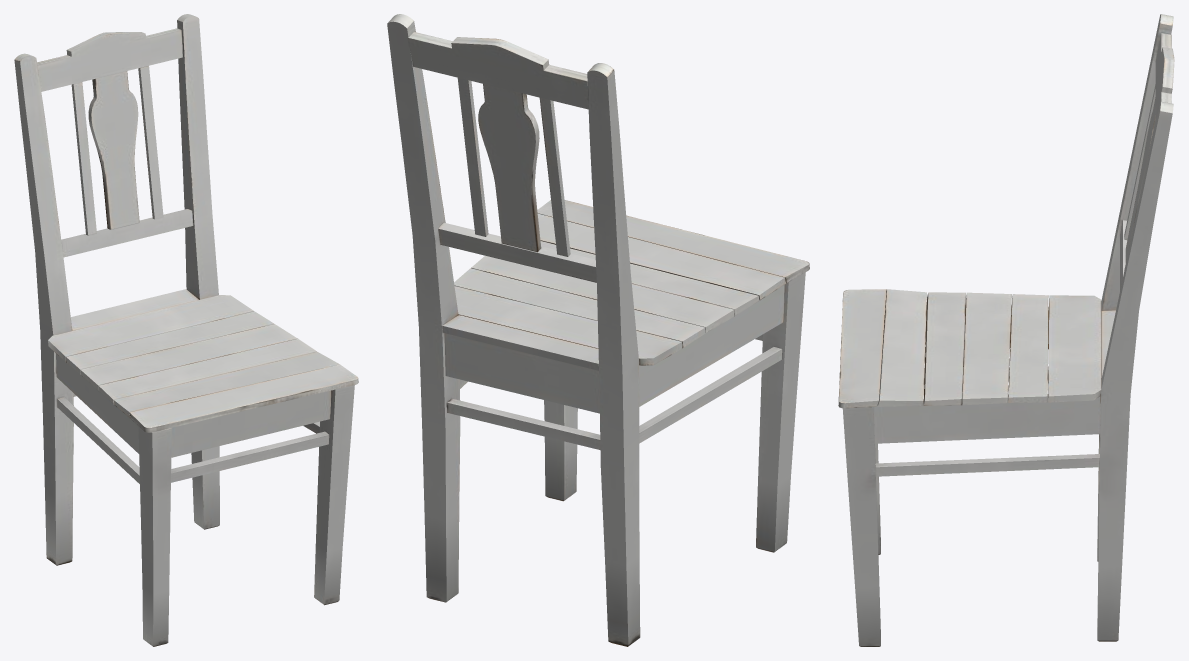
File: chair.glb
3 views of the same model, side by side, from view 1: azimuth 30°, elevation 25°; view 2: azimuth 150°, elevation 25°; view 3: azimuth 270°, elevation 25° (orthographic). The views are drawn at different scales.
Visible parts, largest first — view 1: painted_wooden_chair_01; view 2: painted_wooden_chair_01; view 3: painted_wooden_chair_01.
Part boxes in pixels (x1,y1,x2,y2): painted_wooden_chair_01: [14, 14, 358, 646]; painted_wooden_chair_01: [387, 14, 809, 646]; painted_wooden_chair_01: [838, 14, 1174, 646].
Bounding box in the file's own units: 0.4317 × 0.9565 × 0.5398.
1 material, 1 textured.
